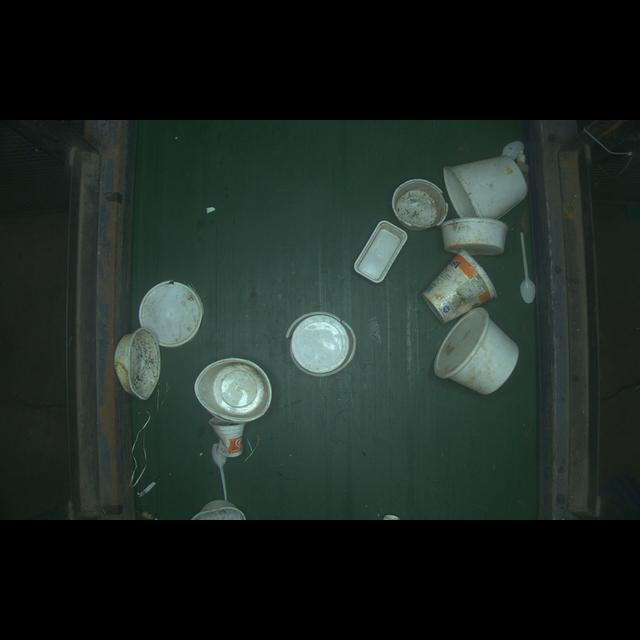mix PP: (285, 308, 363, 382), (417, 250, 501, 317), (135, 274, 211, 343), (354, 213, 408, 285), (515, 228, 540, 303)
